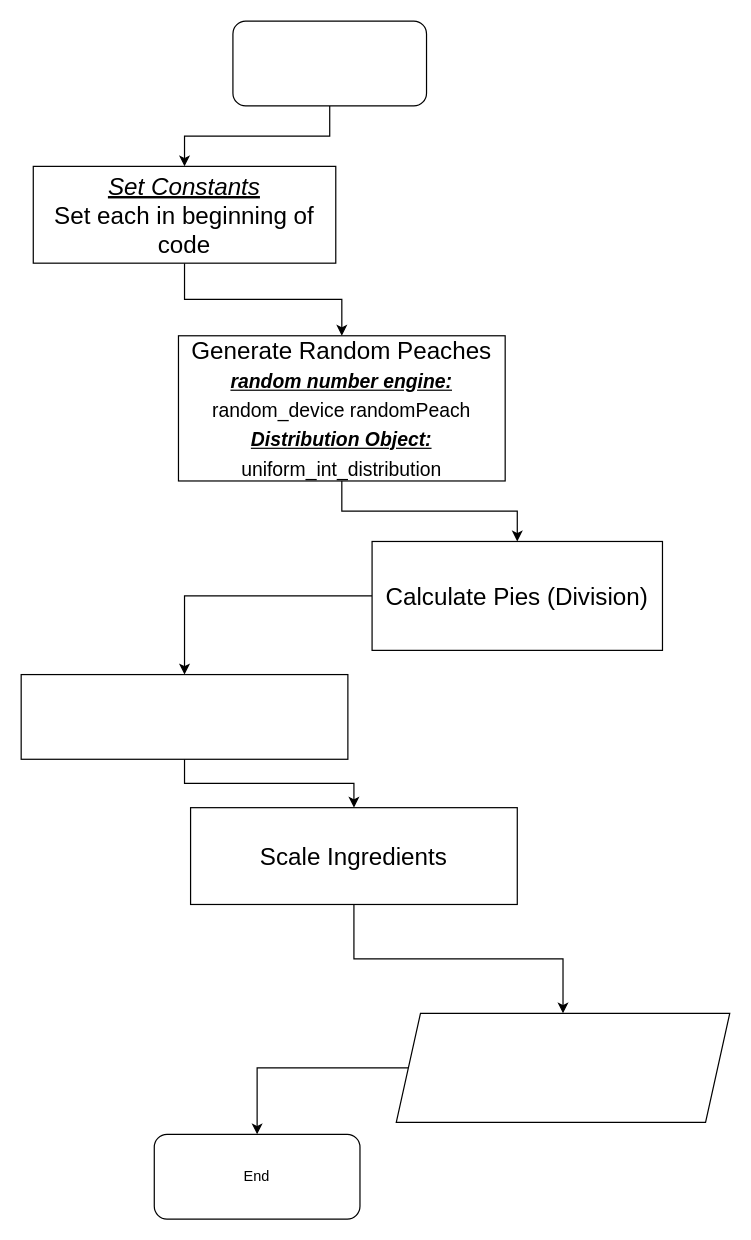
The diagram is 751 pixels wide and 1240 high, and some of its shapes have lost their labels. Here are the shapes that lost their labels. From the top down, the centre of each, then its label:
the point at 329,63: Start
the point at 184,716: Calculate Leftovers (modulus)
the point at 562,1067: Output Results
